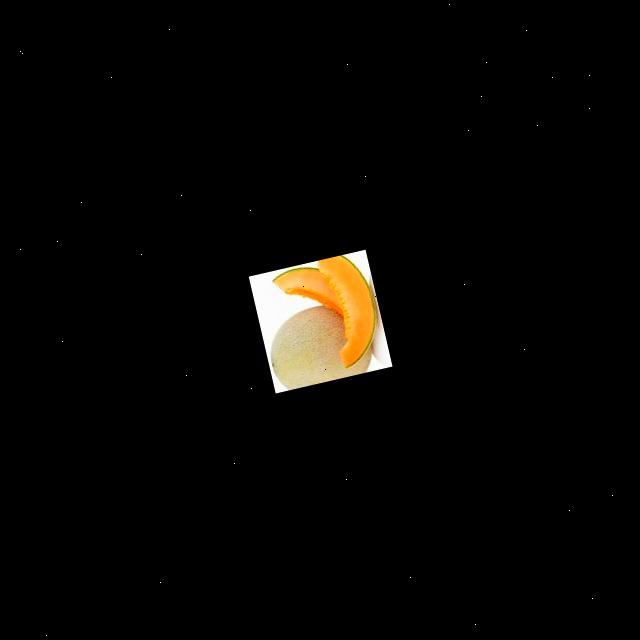Hami Melon: (260, 296, 376, 392), (317, 248, 388, 368)
